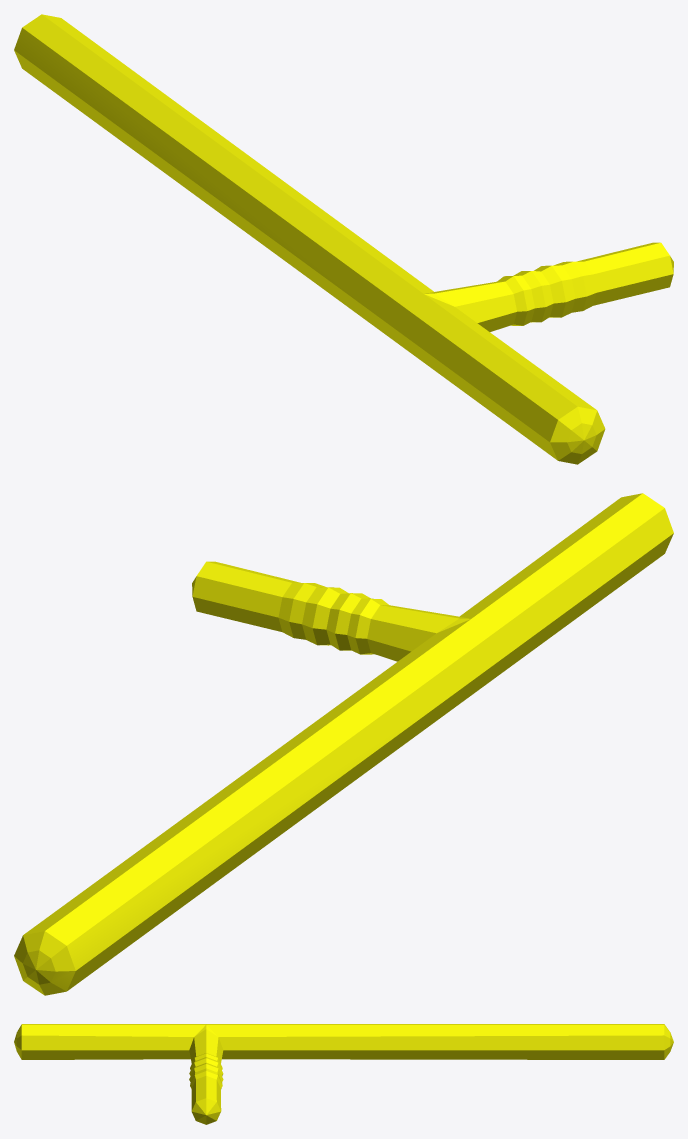
3 renders of one model, top to bottom at view 1: azimuth 30°, elevation 25°; view 2: azimuth 150°, elevation 25°; view 3: azimuth 270°, elevation 25°, orthographic. The views are drawn at different scales.
Visible parts, largest first — view 1: Police_baton; view 2: Police_baton; view 3: Police_baton.
Boxes of the visible parts, left/top/right/bottom form: Police_baton: left=14, top=14, right=673, bottom=464; Police_baton: left=14, top=493, right=673, bottom=995; Police_baton: left=14, top=1024, right=673, bottom=1124.
Bounding box in the file's own units: 0.2146 × 0.0428 × 0.7362.
Materials: 1 (1 with a texture image).
